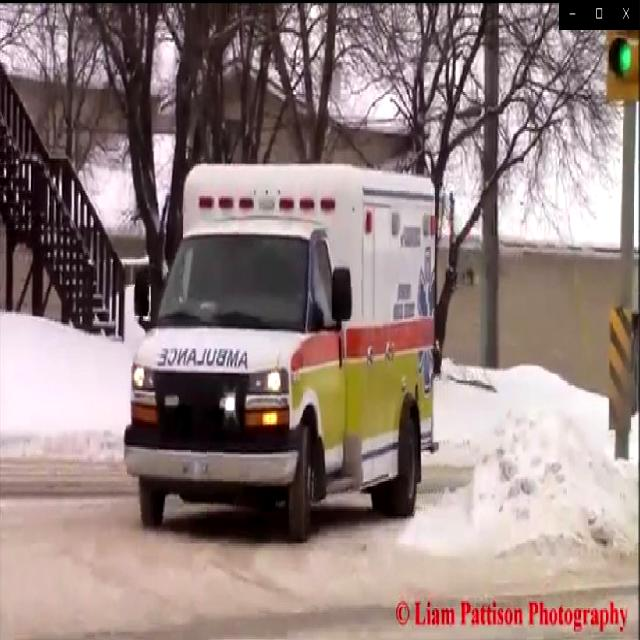emergency: (118, 163, 441, 551)
